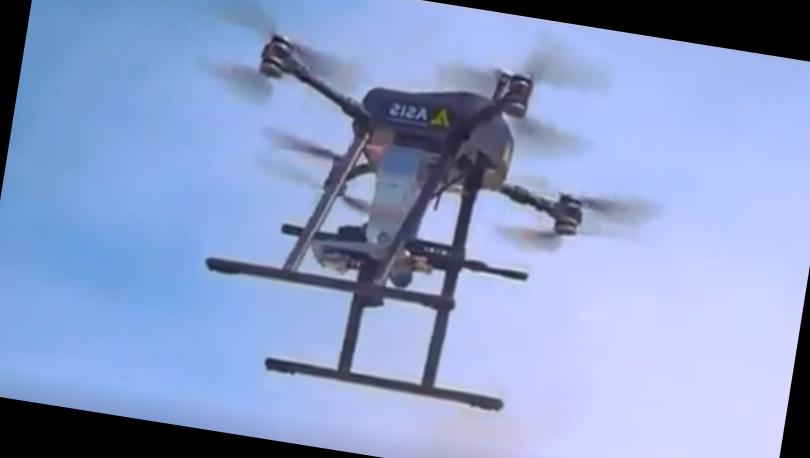drone: (142, 0, 667, 308)
